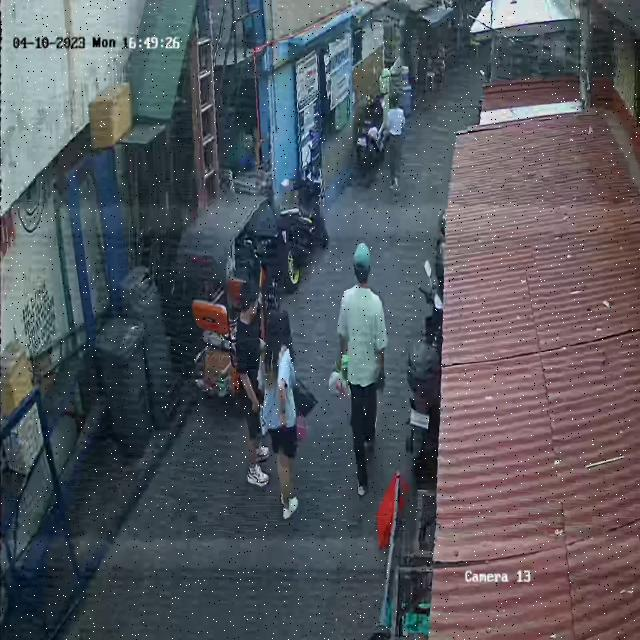human: (330, 243, 386, 492), (260, 308, 318, 522)
trash: (292, 372, 318, 418), (330, 361, 350, 402)
